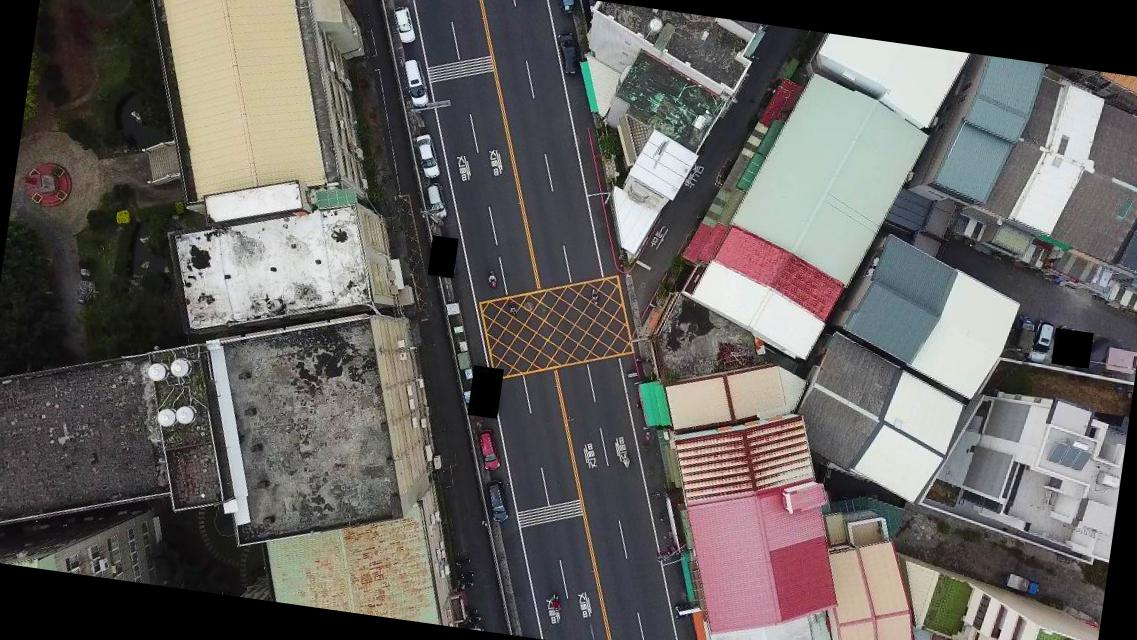vehicle: (397, 54, 436, 110), (409, 131, 445, 182), (549, 29, 583, 76), (480, 478, 513, 524), (473, 426, 505, 471), (388, 1, 417, 46), (420, 184, 452, 224), (1028, 319, 1052, 364)
